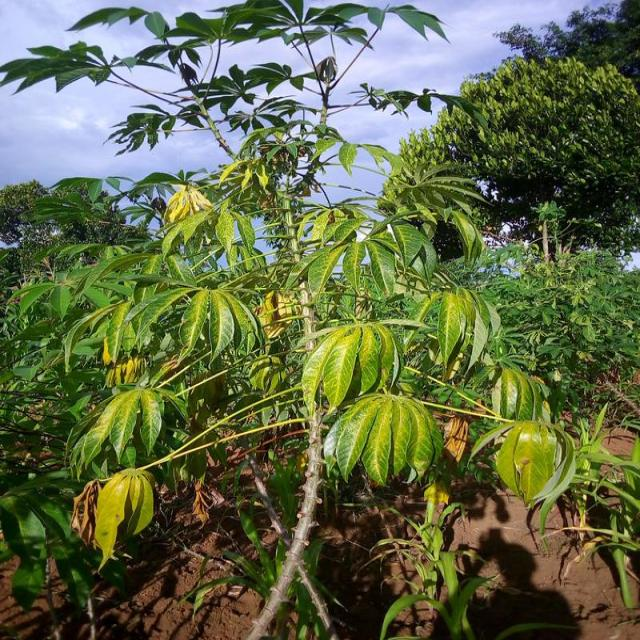cassava leaf: (322, 390, 443, 488), (300, 321, 400, 418), (69, 385, 163, 478), (93, 466, 154, 572)
